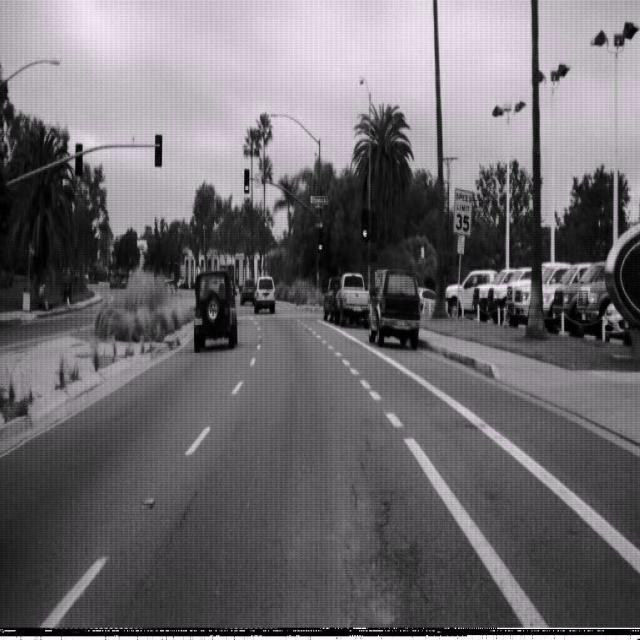speedLimit35: (452, 186, 473, 238)
